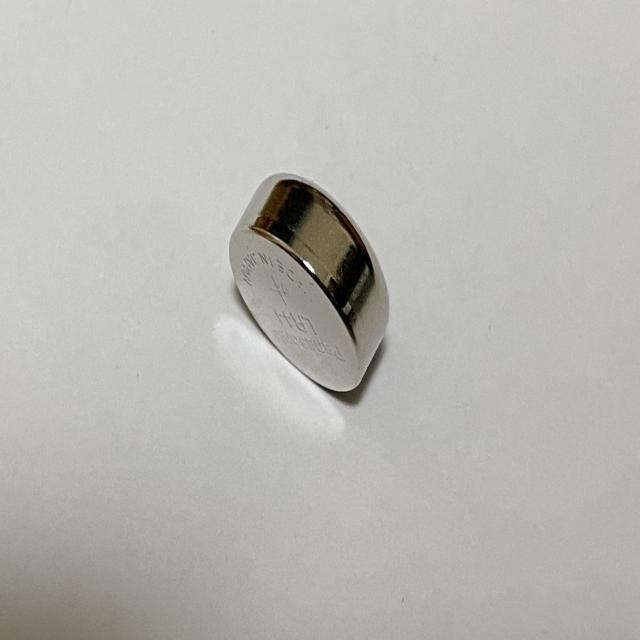COIN: (228, 174, 390, 404)
